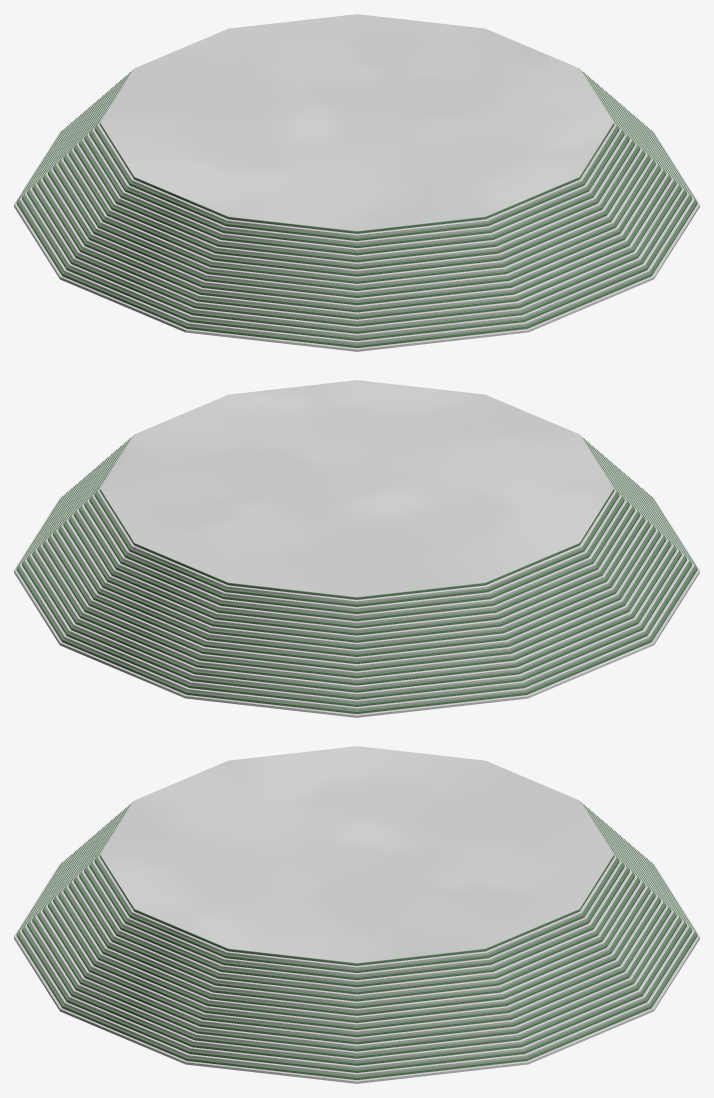
The model's file is Main_Stairs.fbx.
The picture shows the model from 3 angles, top to bottom: view 1: azimuth 30°, elevation 25°; view 2: azimuth 150°, elevation 25°; view 3: azimuth 270°, elevation 25°; orthographic projection.
Visible parts, largest first — view 1: Main_Stairs; view 2: Main_Stairs; view 3: Main_Stairs.
Part boxes in pixels (x1,y1,x2,y2): Main_Stairs: (14,14,699,351); Main_Stairs: (14,380,699,717); Main_Stairs: (14,746,699,1083).
Size of the model in its own units: 66.1 by 8.96 by 66.1.
